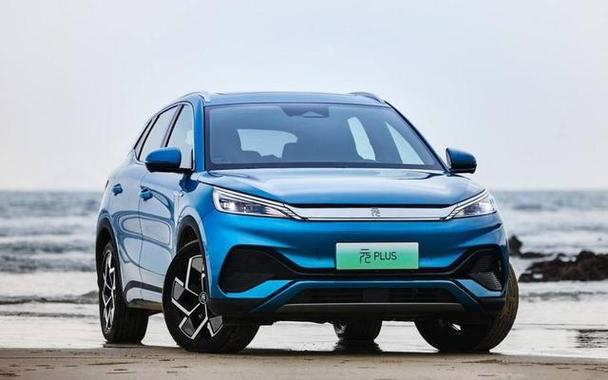汽车: (92, 84, 526, 360)
